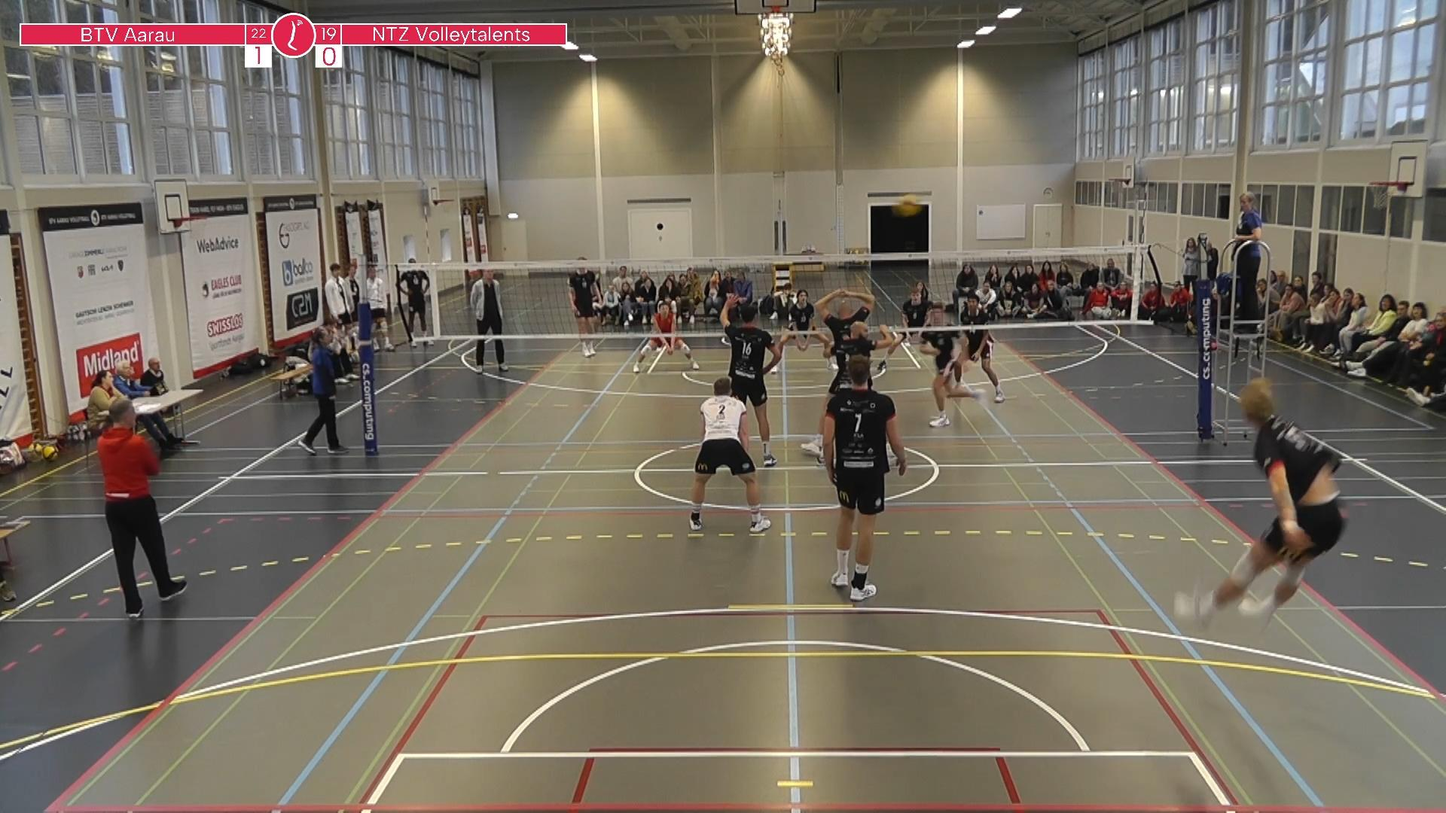battuta: (1149, 361, 1357, 628)
